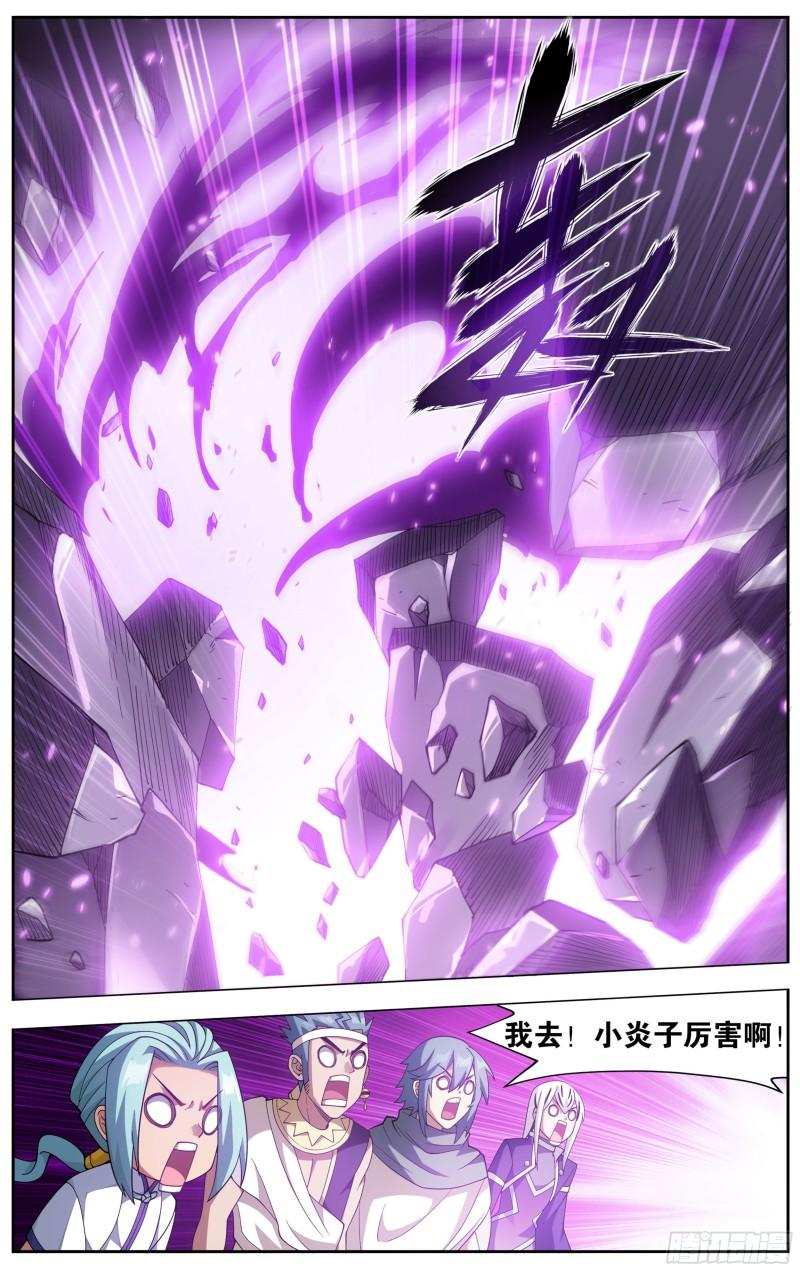boxBomb: (468, 985, 795, 1096)
minBox: (6, 8, 795, 1006), (3, 976, 795, 1258)
